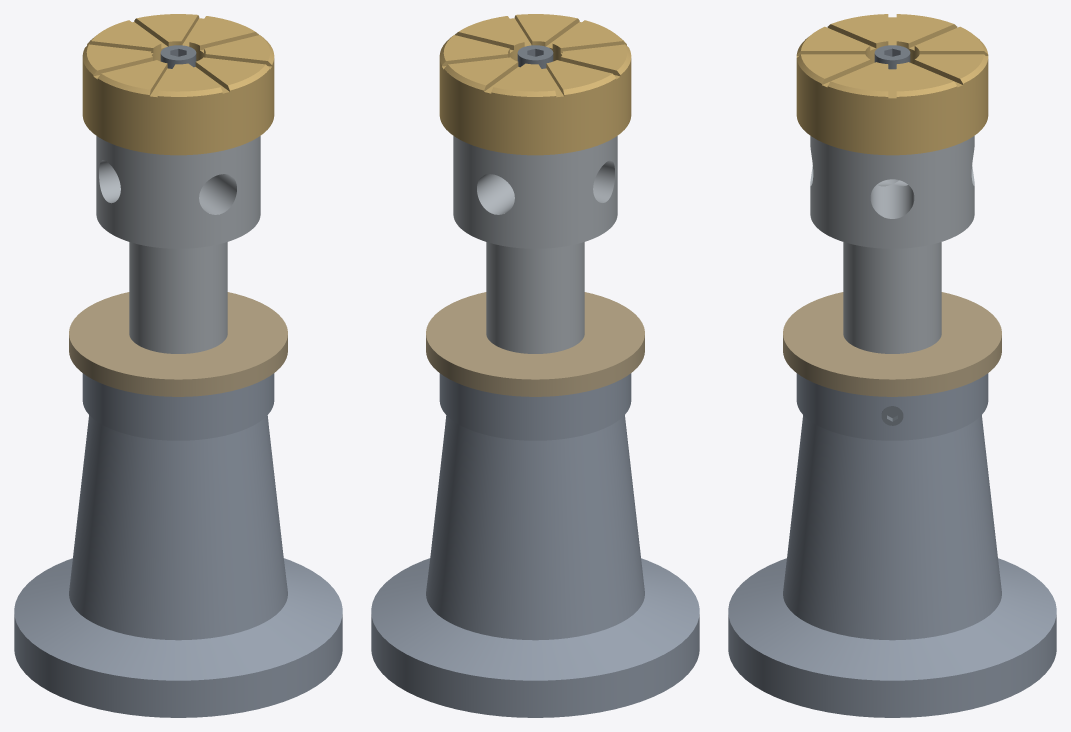
The model's file is step_17.glb.
3 renders of one model, left to right at view 1: azimuth 30°, elevation 25°; view 2: azimuth 150°, elevation 25°; view 3: azimuth 270°, elevation 25°, orthographic.
Visible parts, largest first — view 1: part__body, part__screw spindle, part__load cup, part__bronze bush, part__cap screw M8 x 25; view 2: part__body, part__screw spindle, part__load cup, part__bronze bush, part__cap screw M8 x 25; view 3: part__body, part__screw spindle, part__load cup, part__bronze bush, part__cap screw M8 x 25.
Part boxes in pixels (box(x1,y1,x2,y2)): part__body: box(14, 373, 342, 717); part__screw spindle: box(96, 136, 260, 353); part__load cup: box(82, 14, 274, 155); part__bronze bush: box(69, 292, 287, 396); part__cap screw M8 x 25: box(160, 45, 196, 68); part__body: box(371, 373, 699, 717); part__screw spindle: box(453, 136, 617, 353); part__load cup: box(439, 14, 631, 155); part__bronze bush: box(426, 292, 644, 396); part__cap screw M8 x 25: box(517, 45, 553, 68); part__body: box(728, 373, 1056, 717); part__screw spindle: box(810, 136, 974, 353); part__load cup: box(796, 14, 988, 155); part__bronze bush: box(783, 292, 1001, 396); part__cap screw M8 x 25: box(874, 45, 910, 69).
Bounding box in the file's own units: 120 × 240 × 120.
